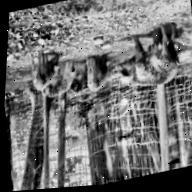boar: (109, 20, 185, 96), (37, 59, 78, 101), (27, 49, 65, 93), (83, 52, 112, 94)
